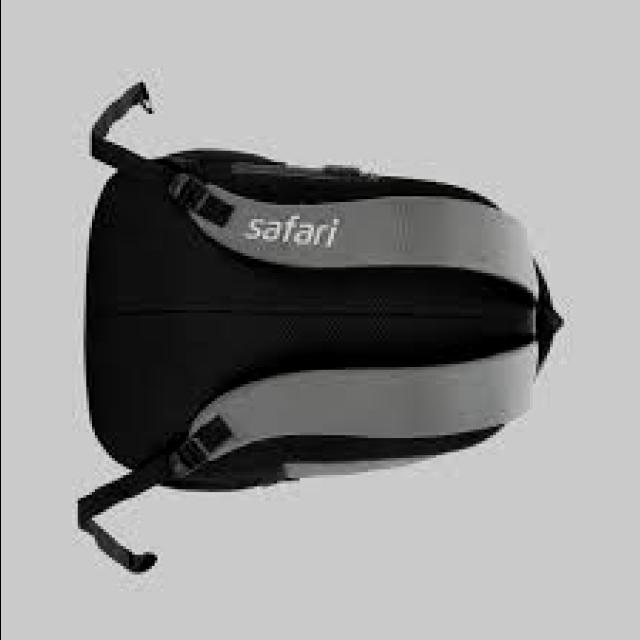backpack: (78, 81, 567, 573)
